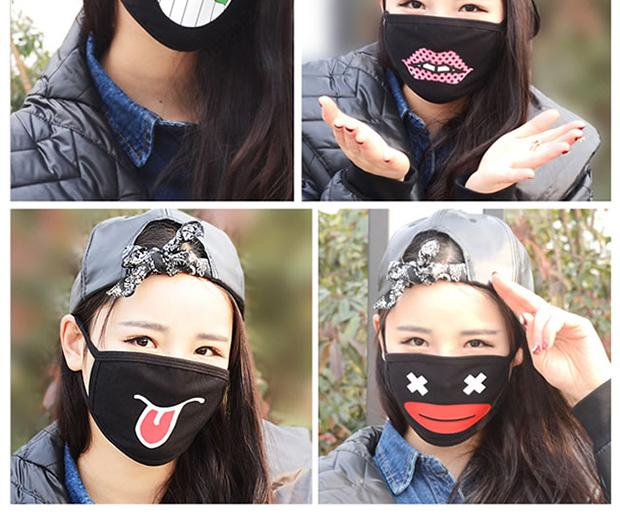OK: (86, 309, 238, 461), (381, 311, 515, 445), (383, 1, 505, 105)
